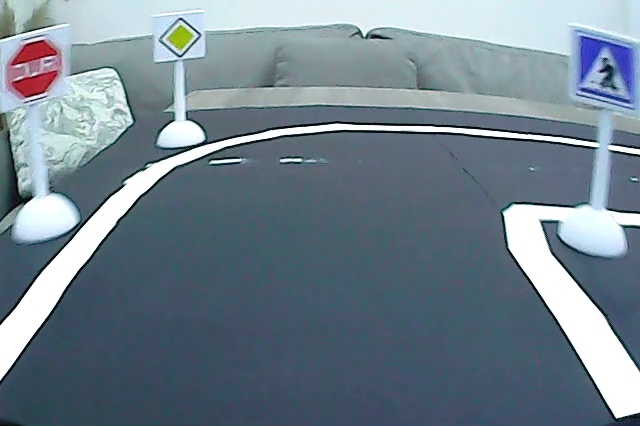pedestrian crossing: (573, 28, 640, 113)
stop sign: (2, 32, 66, 103)
